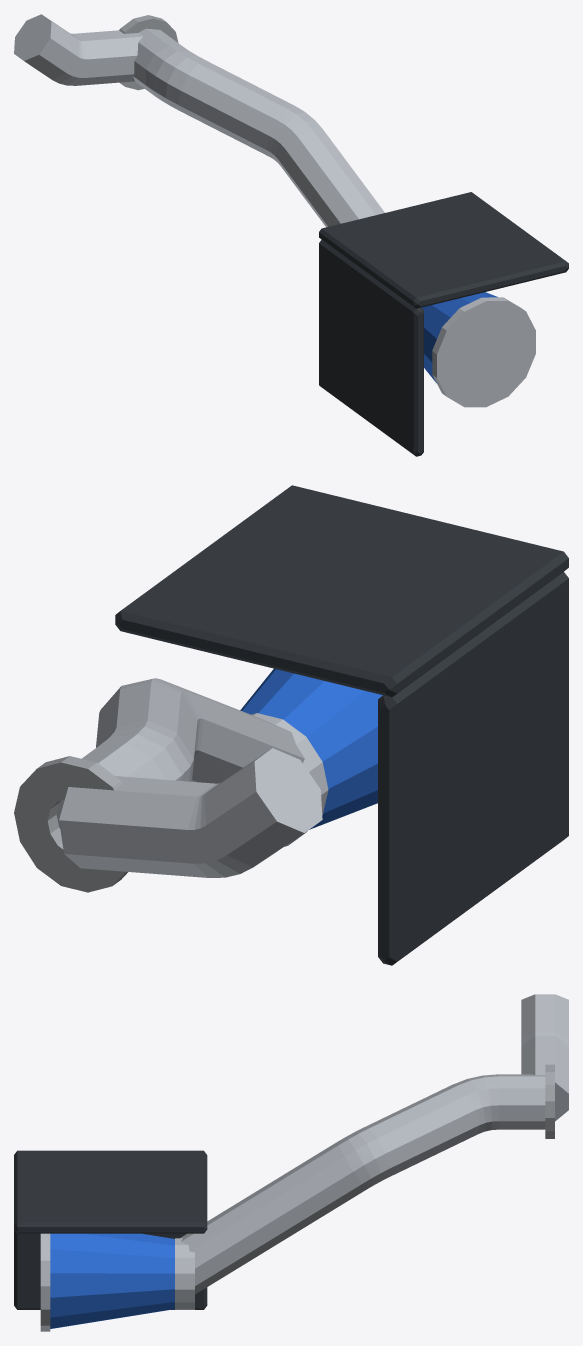
File: hana_roadster.glb
The picture shows the model from 3 angles, top to bottom: view 1: azimuth 30°, elevation 25°; view 2: azimuth 150°, elevation 25°; view 3: azimuth 270°, elevation 25°; orthographic projection. The views are drawn at different scales.
Visible parts, largest first — view 1: model; view 2: model; view 3: model.
Boxes of the visible parts, <box> form: model: <box>14,14,568,456</box>; model: <box>14,485,568,965</box>; model: <box>14,994,568,1331</box>.
Bounding box in the file's own units: 0.3995 × 0.3623 × 0.6896.
2 materials, 1 textured.
